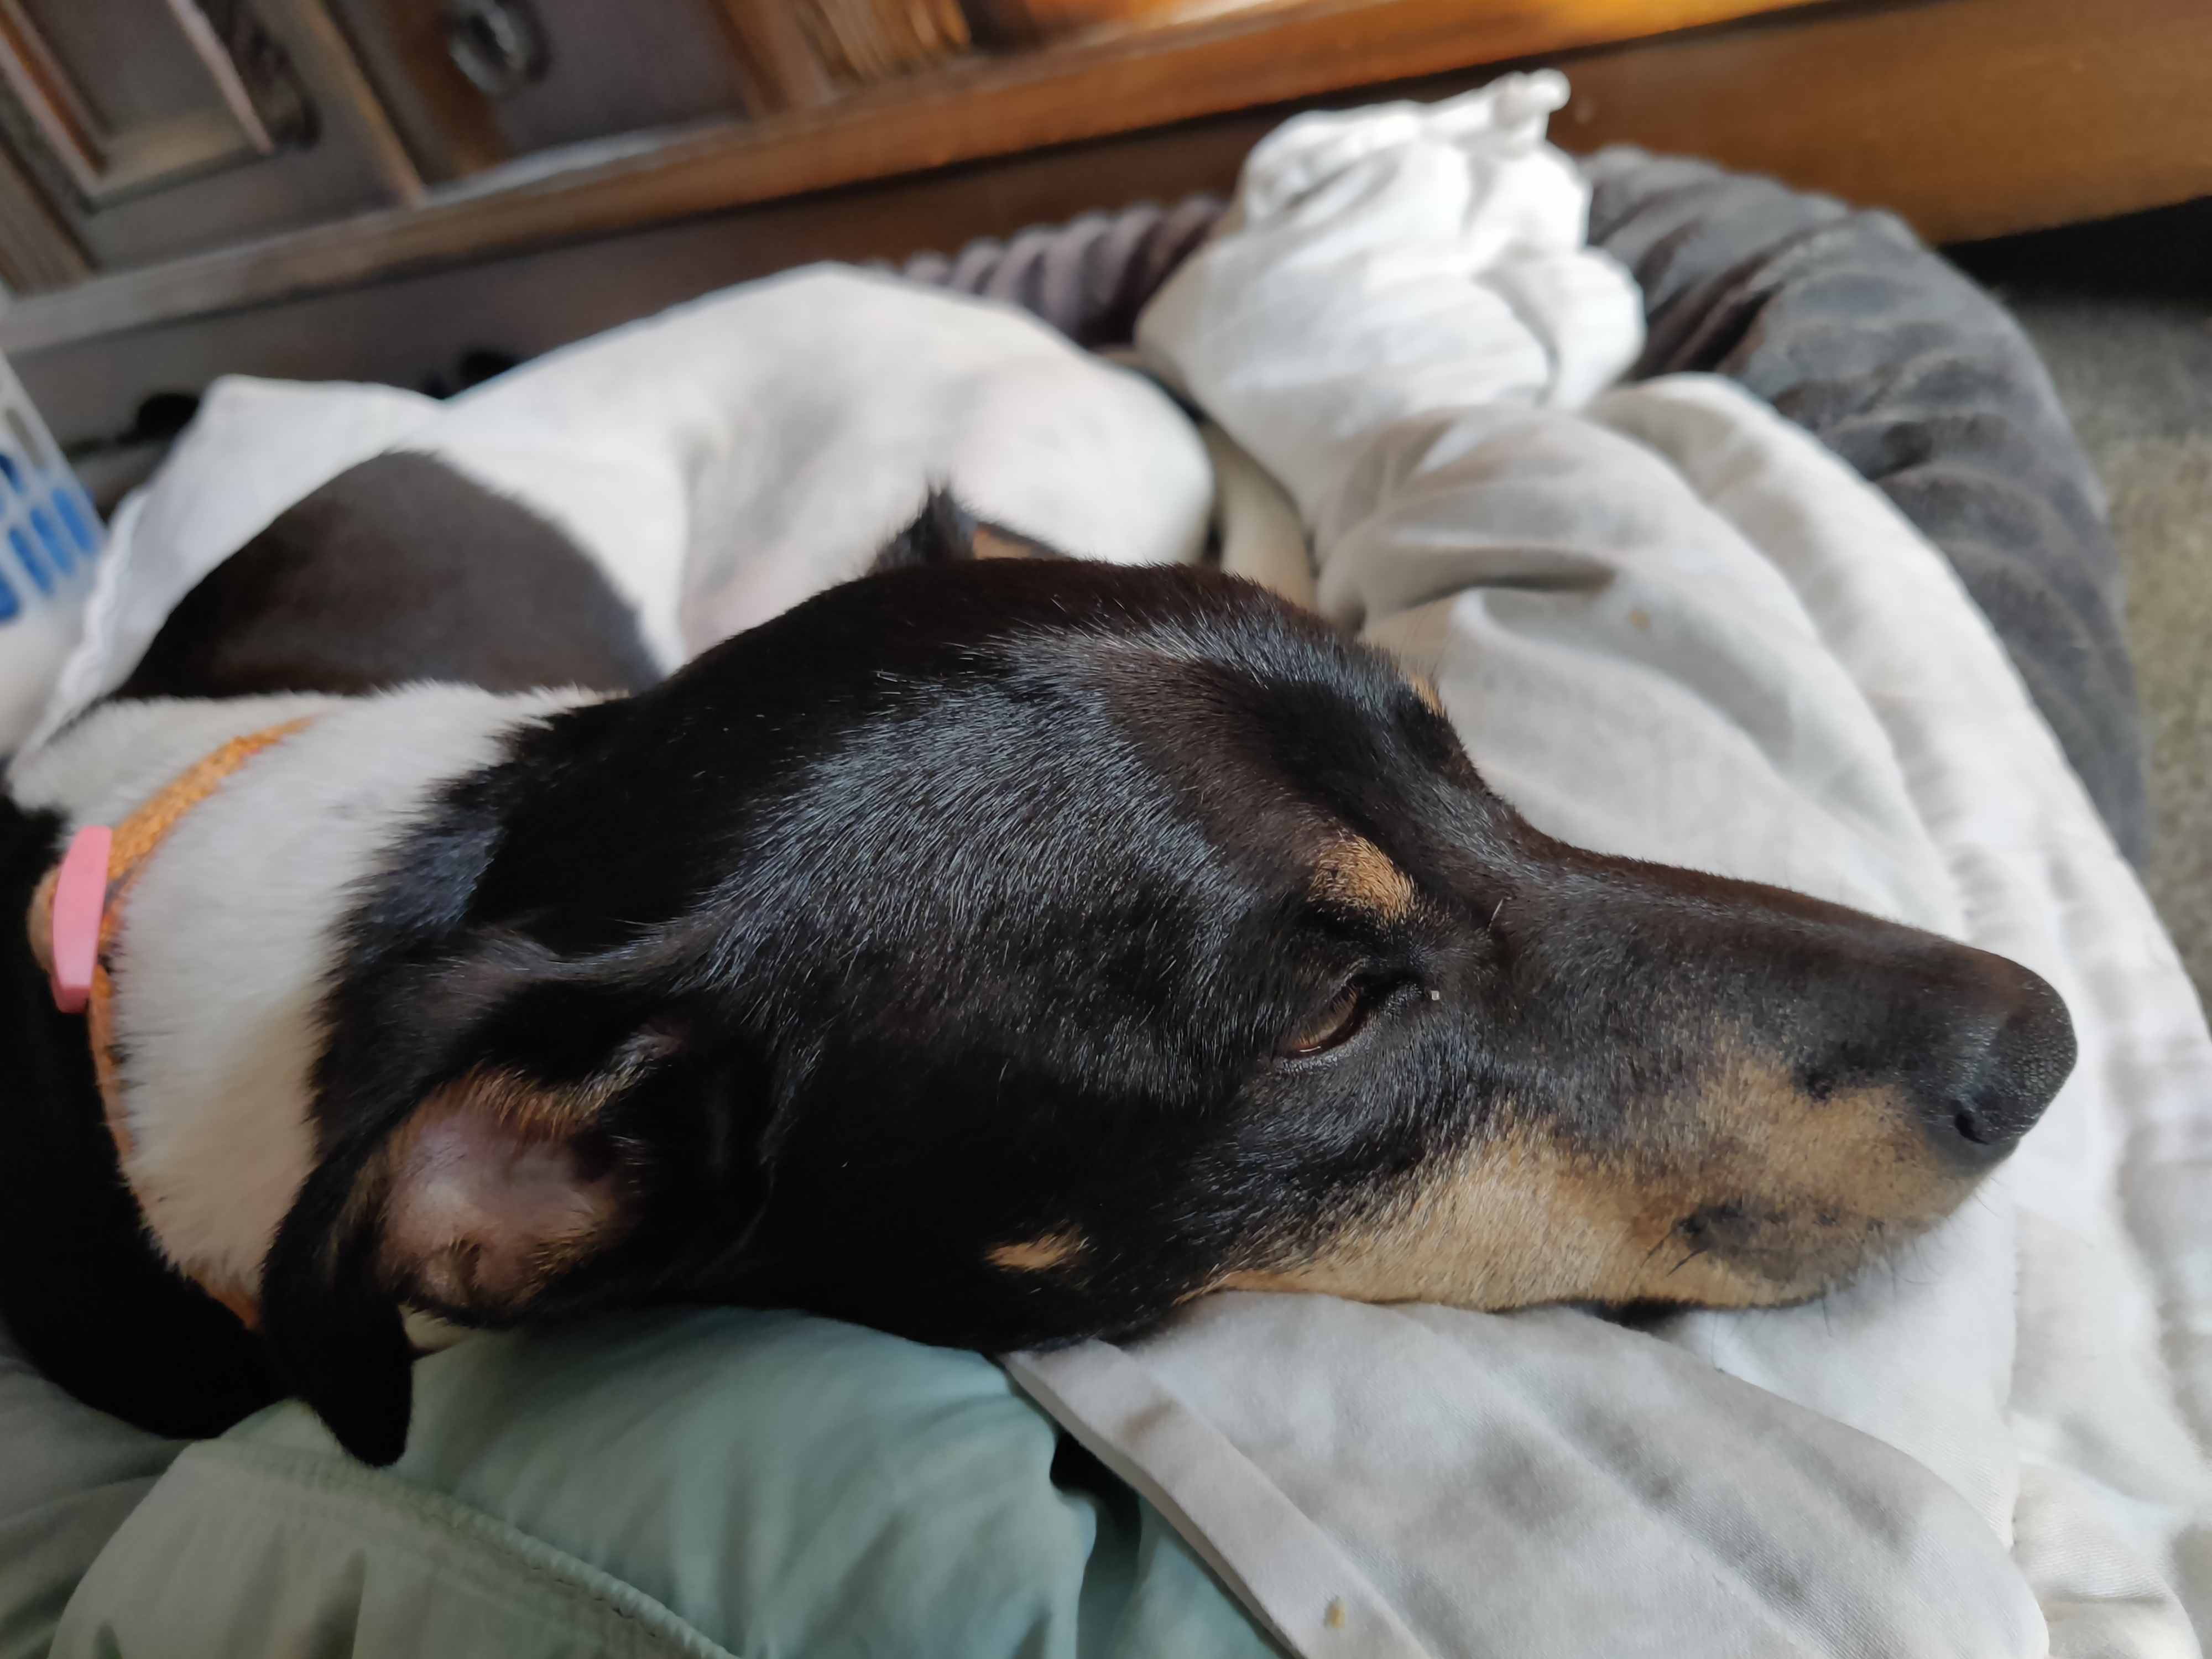Dog: (0, 213, 2090, 1480)
